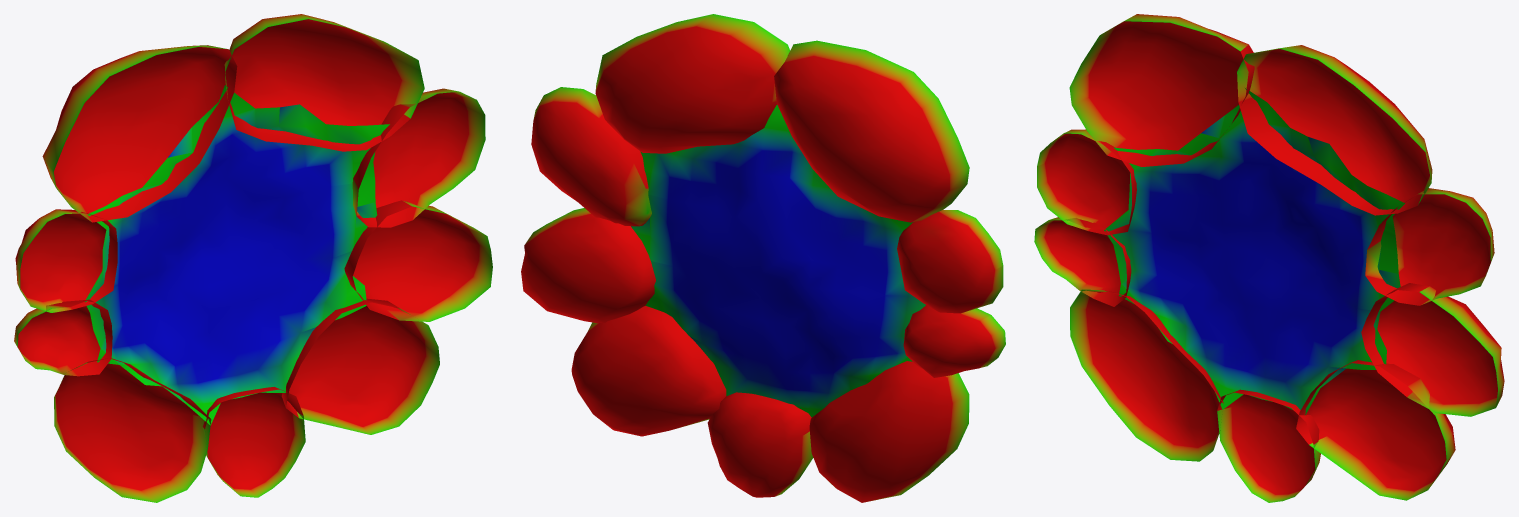
The model's file is campfire.fbx.
The picture shows the model from 3 angles, left to right: view 1: azimuth 30°, elevation 25°; view 2: azimuth 150°, elevation 25°; view 3: azimuth 330°, elevation 25°; orthographic projection. The views are drawn at different scales.
Visible parts, largest first — view 1: MS_Campfire; view 2: MS_Campfire; view 3: MS_Campfire.
Part boxes in pixels (box(x1,y1,x2,y2)): MS_Campfire: box(14, 14, 492, 502); MS_Campfire: box(521, 14, 1005, 502); MS_Campfire: box(1034, 14, 1504, 502).
Size of the model in its own units: 138 by 130 by 19.06.
